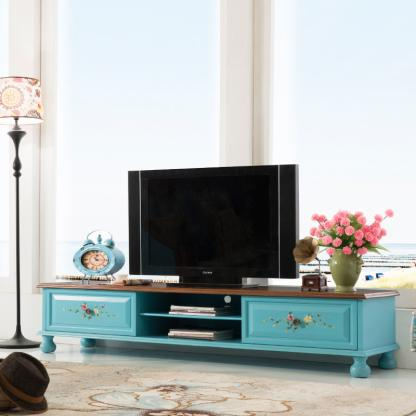TV stand: (40, 270, 401, 378)
